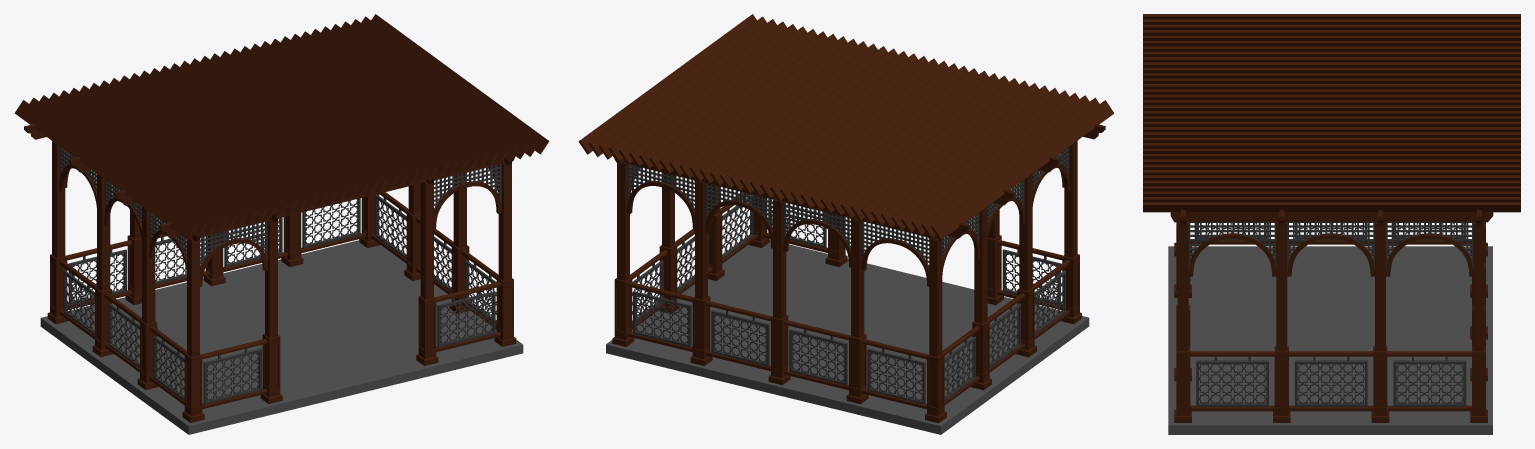
Rendered from Temple.FBX.
3 views of the same model, side by side, from view 1: azimuth 30°, elevation 25°; view 2: azimuth 150°, elevation 25°; view 3: azimuth 270°, elevation 25° (orthographic). The views are drawn at different scales.
Visible parts, largest first — view 1: Temple; view 2: Temple; view 3: Temple.
Part boxes in pixels (x1,y1,x2,y2): Temple: (14, 14, 549, 434); Temple: (578, 14, 1114, 434); Temple: (1143, 14, 1520, 434).
Bounding box in the file's own units: 266 × 147 × 211.
